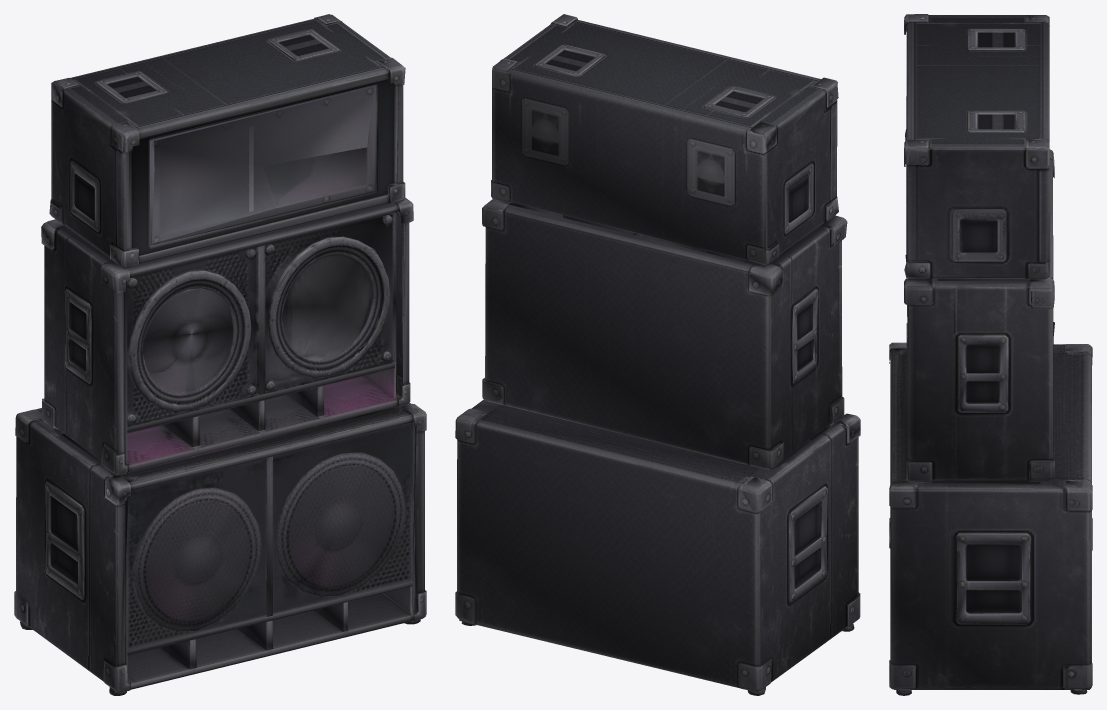
Rendered from speaker.glb.
3 renders of one model, left to right at view 1: azimuth 30°, elevation 25°; view 2: azimuth 150°, elevation 25°; view 3: azimuth 270°, elevation 25°, orthographic. The views are drawn at different scales.
Size of the model in its own units: 0.5562 by 0.9517 by 0.3237.
Materials: 1 (1 with a texture image).
